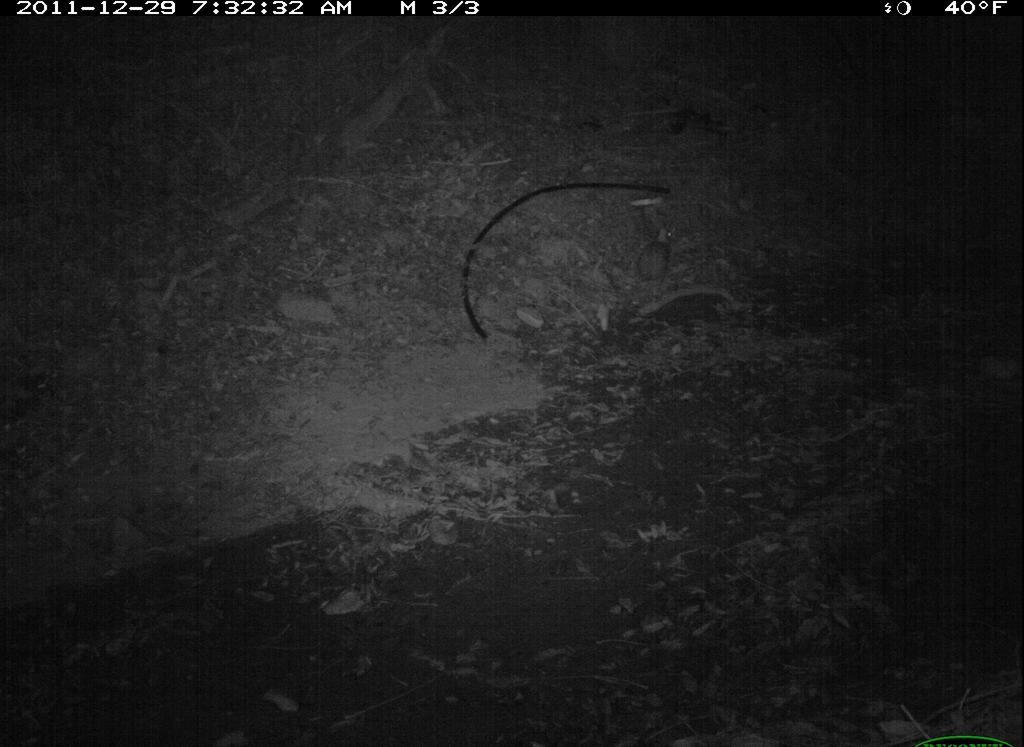rabbit: (632, 216, 693, 291)
